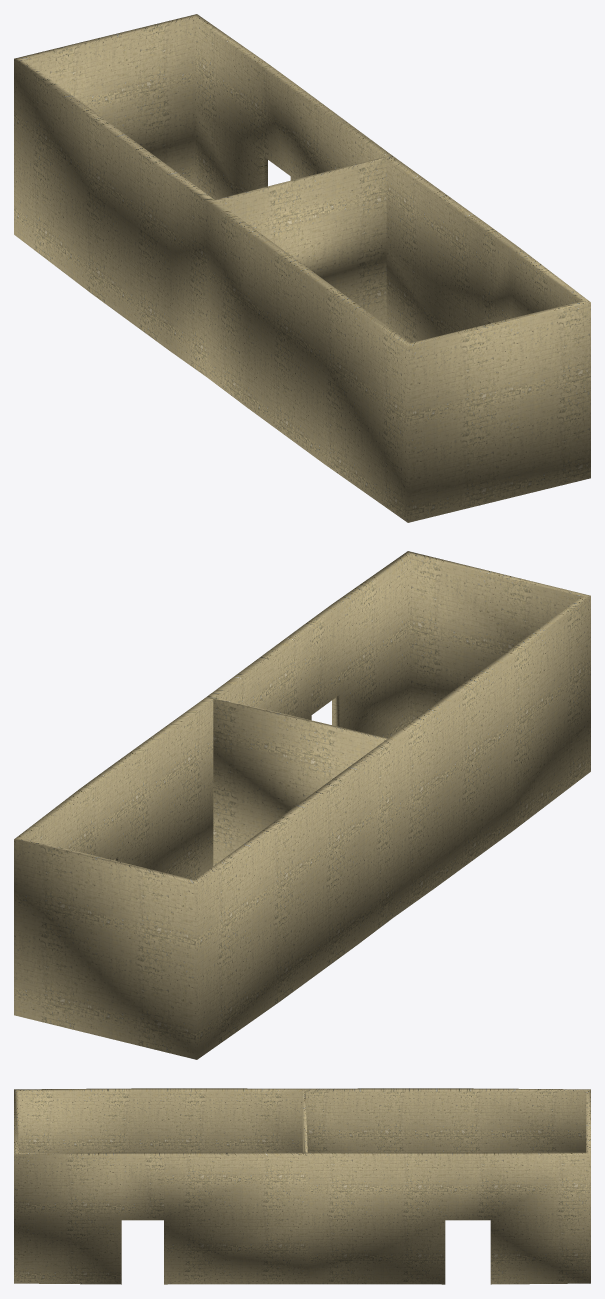
The model's file is new build.fbx.
3 views of the same model, one above another, from view 1: azimuth 30°, elevation 25°; view 2: azimuth 150°, elevation 25°; view 3: azimuth 270°, elevation 25° (orthographic). The views are drawn at different scales.
Parts seen in each view (by area): view 1: Plane; view 2: Plane; view 3: Plane.
Boxes of the visible parts, left/top/right/bottom form: Plane: left=14, top=14, right=590, bottom=522; Plane: left=14, top=551, right=590, bottom=1059; Plane: left=14, top=1088, right=590, bottom=1284.
Size of the model in its own units: 224 by 200 by 812.
